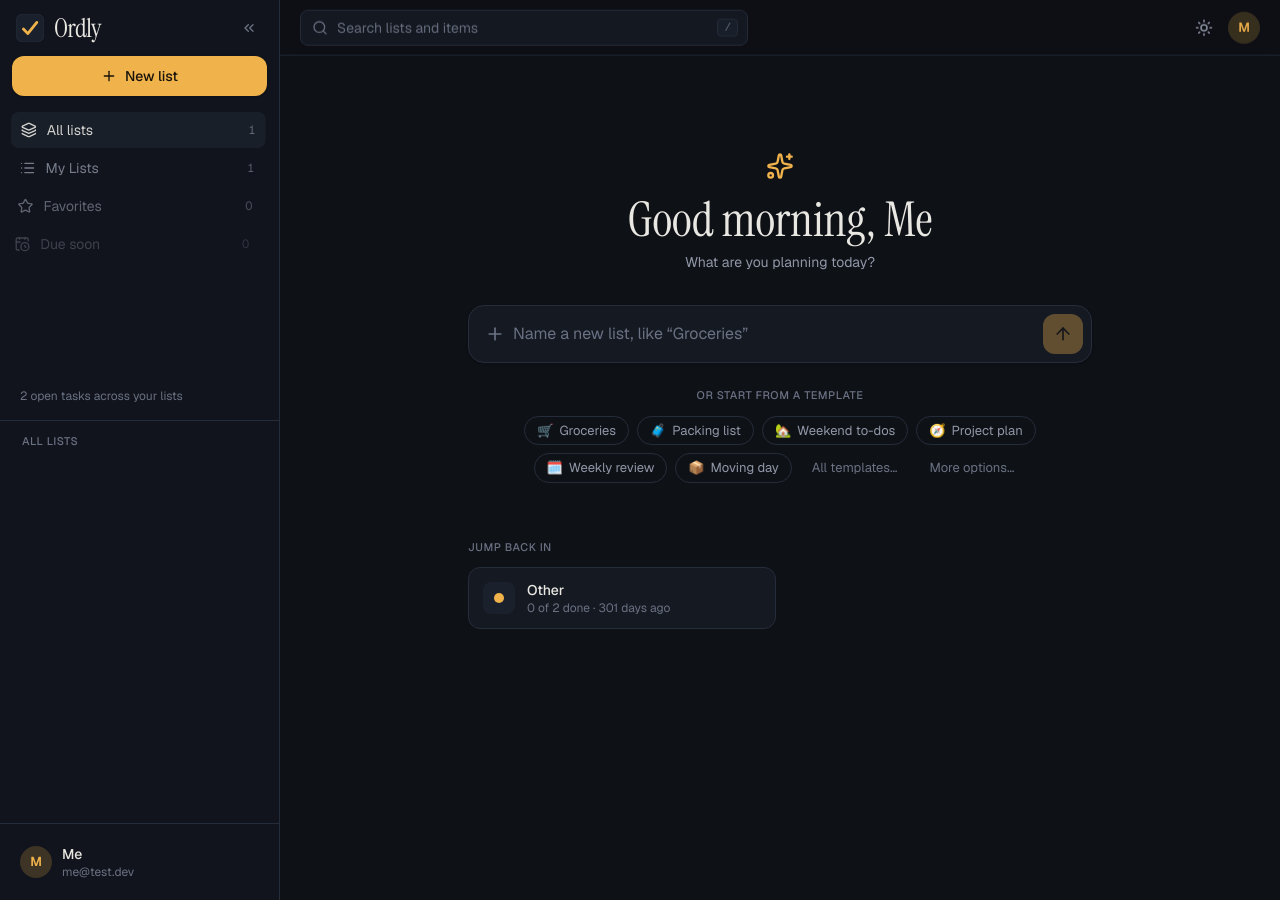
Test: the New list dialog › starts simple: name, type and templates; the rest is folded away
The image size is (1280, 900).
Check: the field named "Name for a new list" is shown, box 513,314 -> 1035,354
Click the button with aria-label "create new list".
click(140, 76)  # box 12,56 -> 267,96
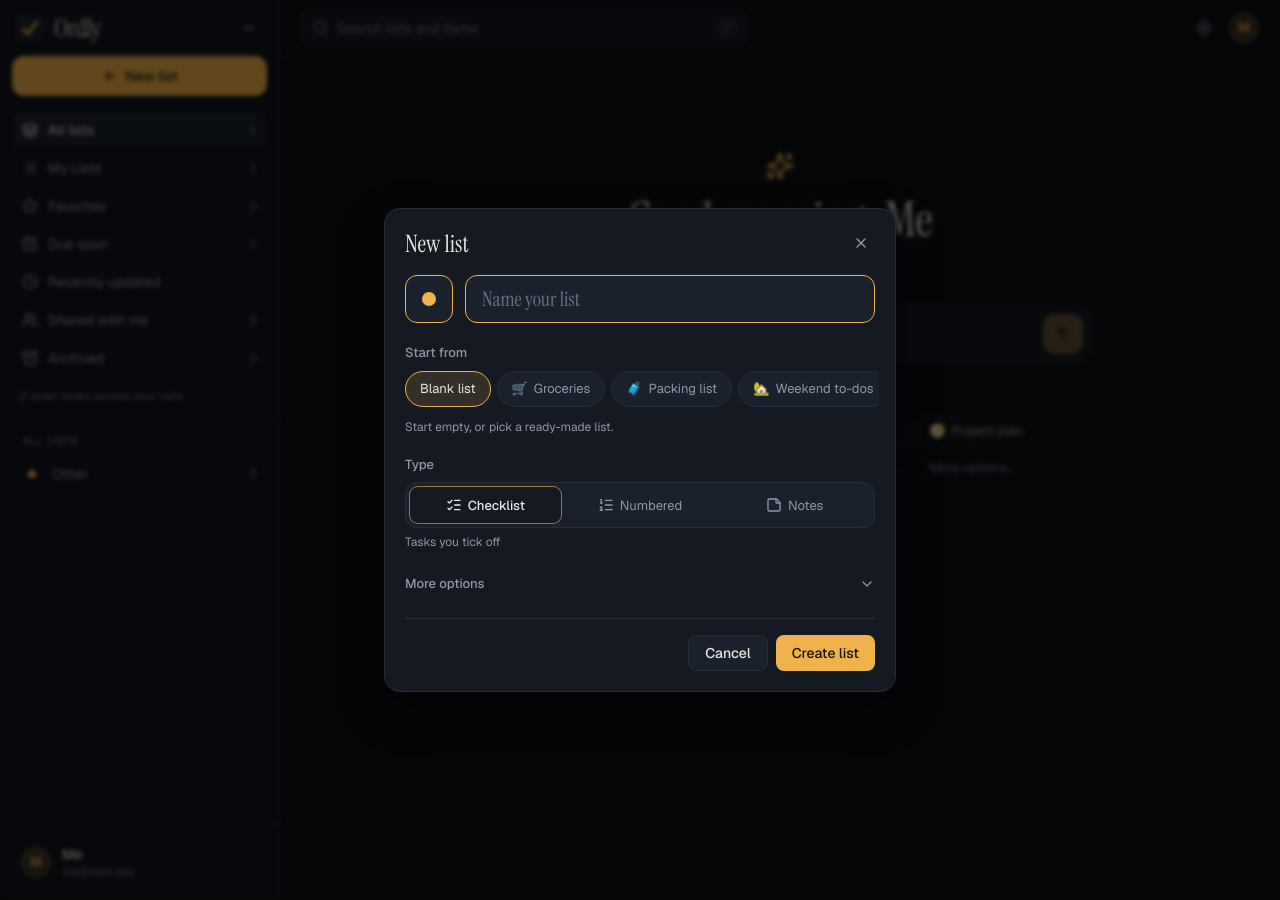
Check: the field labelled "Description" is not shown
Check: the field labelled "Name" is shown, box 465,275 -> 875,323
Click the button "More options".
click(445, 584)  # box 405,570 -> 875,598
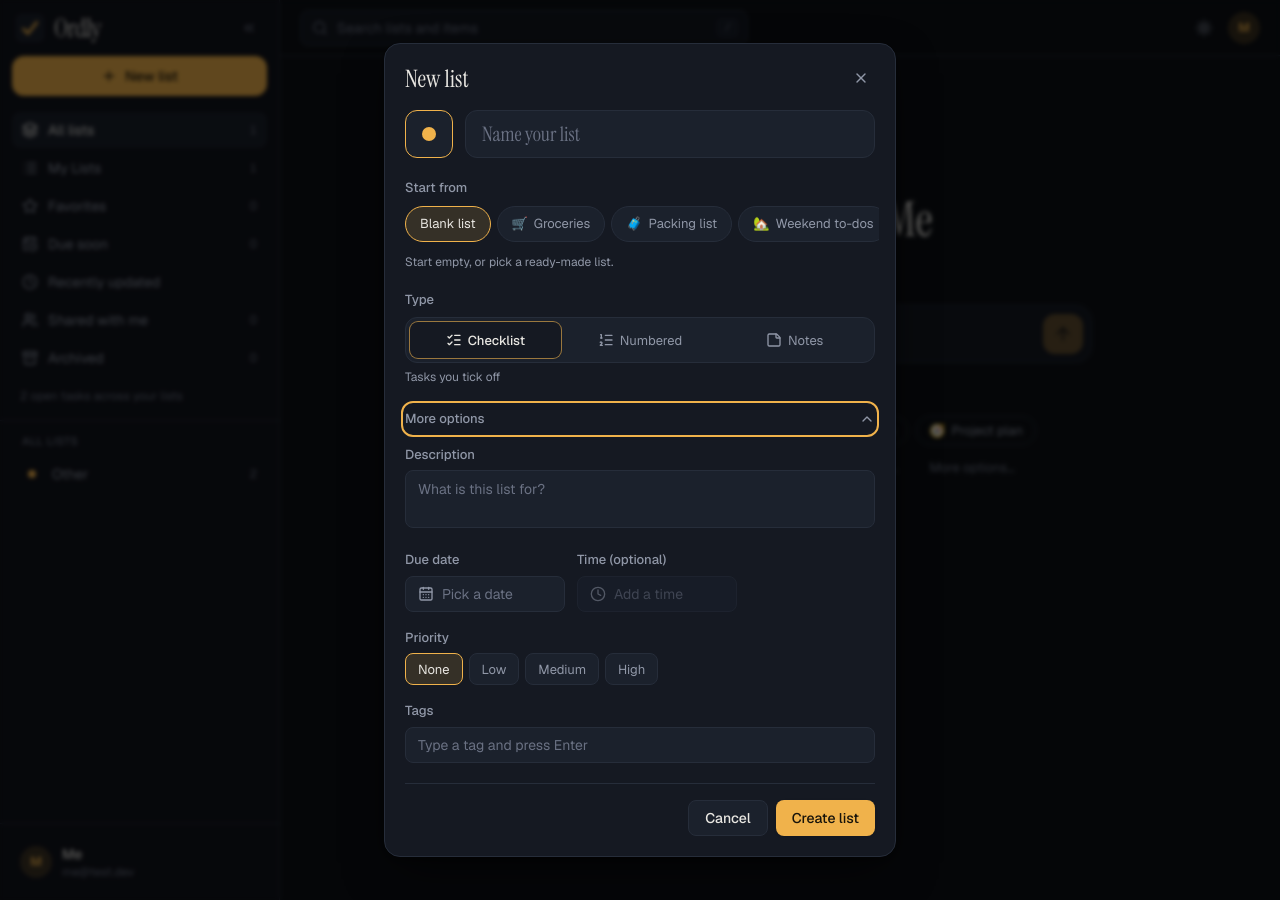
Check: the text box labelled "Description" is shown, box 405,470 -> 875,528
Check: the button named "due date" is shown, box 405,576 -> 565,612
